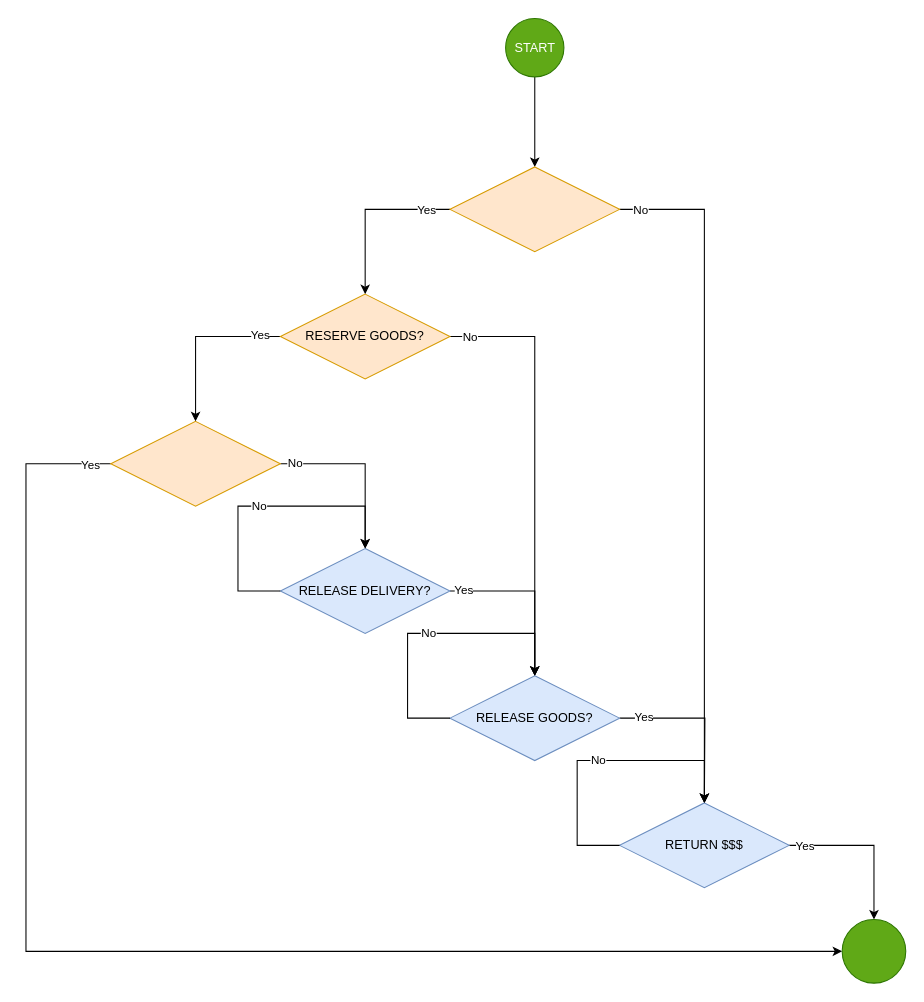
The diagram is 924 pixels wide and 1002 high, and some of its shapes have lost their labels. The centre of each missing label's shape, as x and y in pixels:
"END" belongs at pixel 873 950.
"GET $$$" belongs at pixel 534 209.
"RESERVE DELIVERY?" belongs at pixel 195 463.
